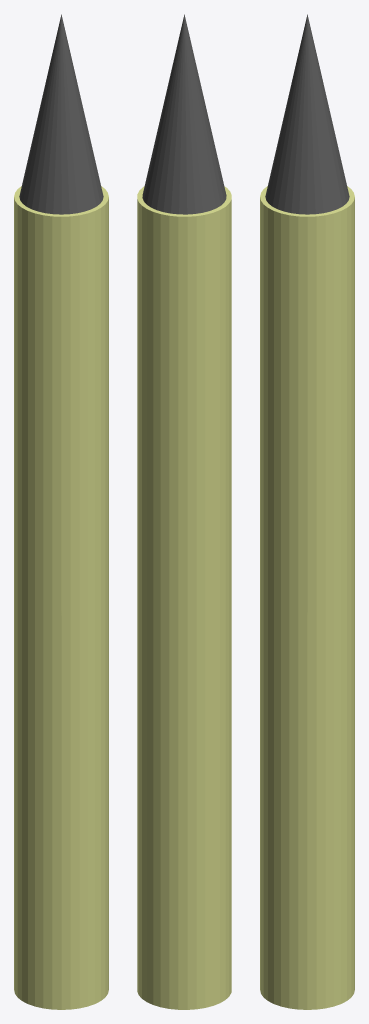
Rendered from Pencil.fbx.
The picture shows the model from 3 angles, left to right: view 1: azimuth 90°, elevation 25°; view 2: azimuth 150°, elevation 25°; view 3: azimuth 270°, elevation 25°; orthographic projection.
Parts seen in each view (by area): view 1: Cylinder, Cone; view 2: Cylinder, Cone; view 3: Cylinder, Cone.
Boxes of the visible parts, bbox=[...] form: Cylinder: bbox=[14, 186, 108, 1009]; Cone: bbox=[19, 14, 103, 214]; Cylinder: bbox=[137, 186, 231, 1009]; Cone: bbox=[142, 14, 226, 214]; Cylinder: bbox=[260, 186, 354, 1009]; Cone: bbox=[265, 14, 349, 214].
Size of the model in its own units: 75.96 by 862 by 75.96.
